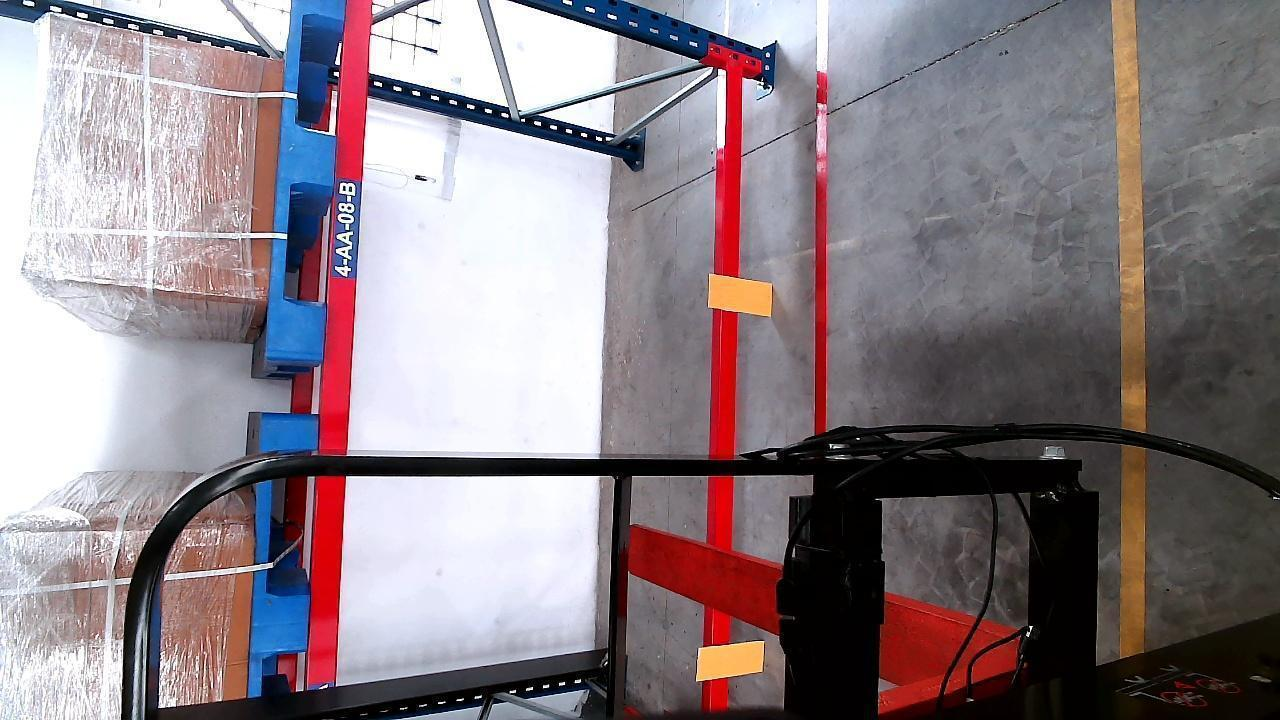red_line: (809, 6, 834, 437)
